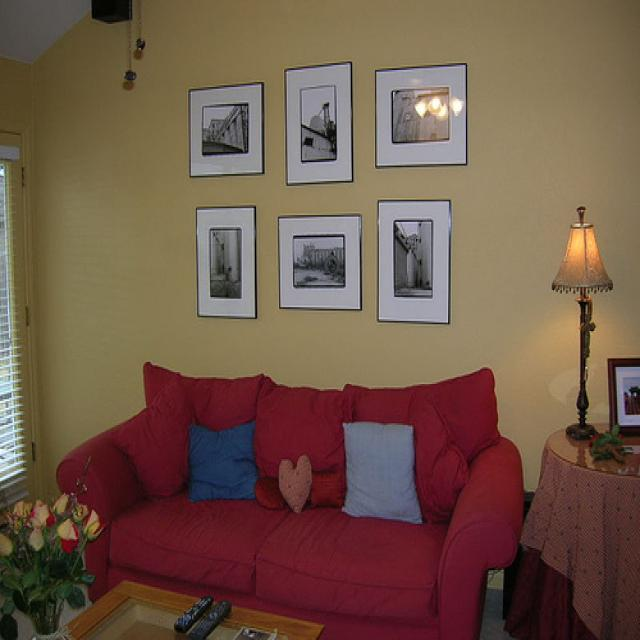sofa: (46, 349, 519, 638)
